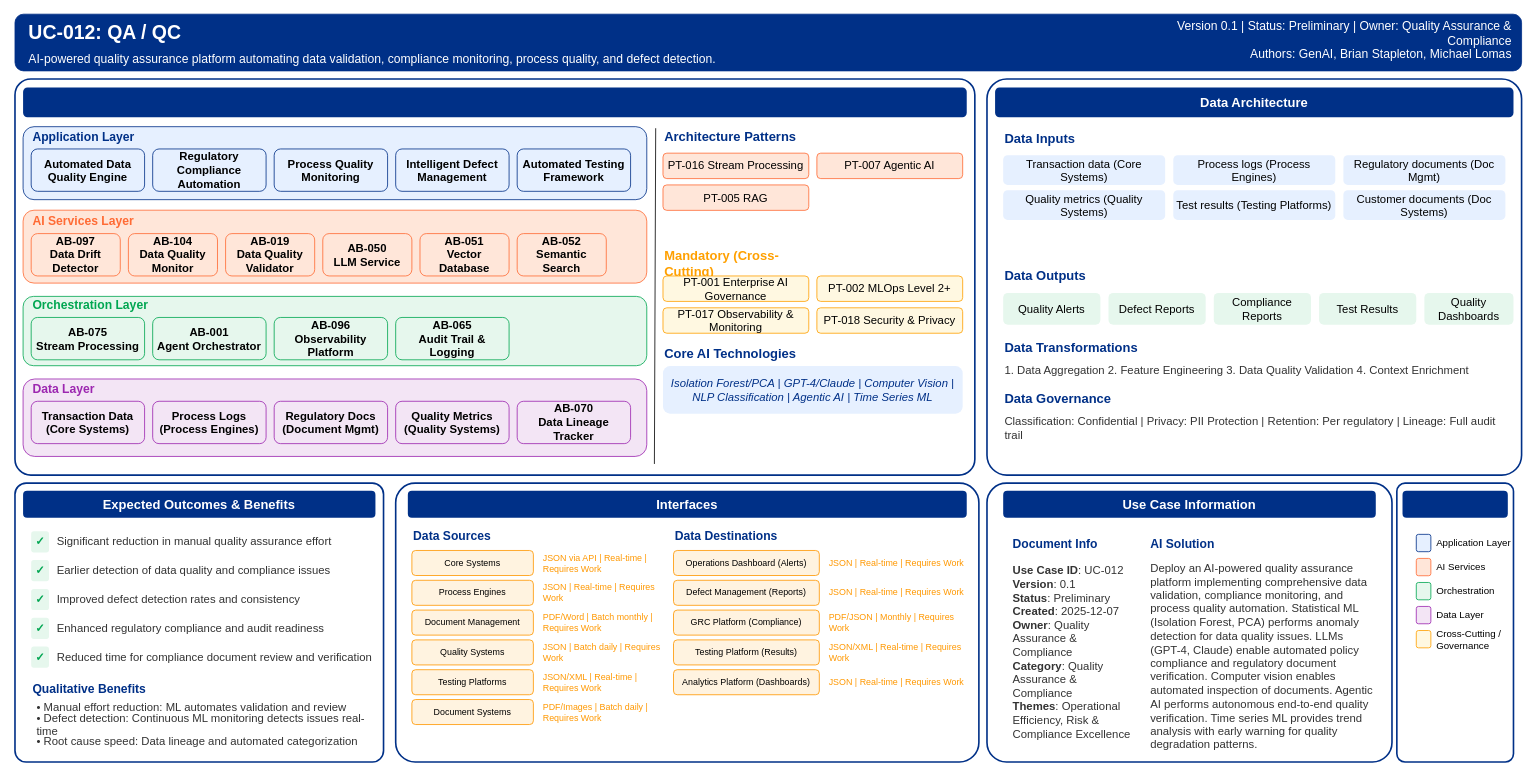
Some shapes in this 1537 by 777 pixel diagram are drawn without their labels. Here are the shapes that lost their labels. From the top down, the centre of each, then its label:
(x=494, y=102): Solution
(x=1454, y=503): Legend
